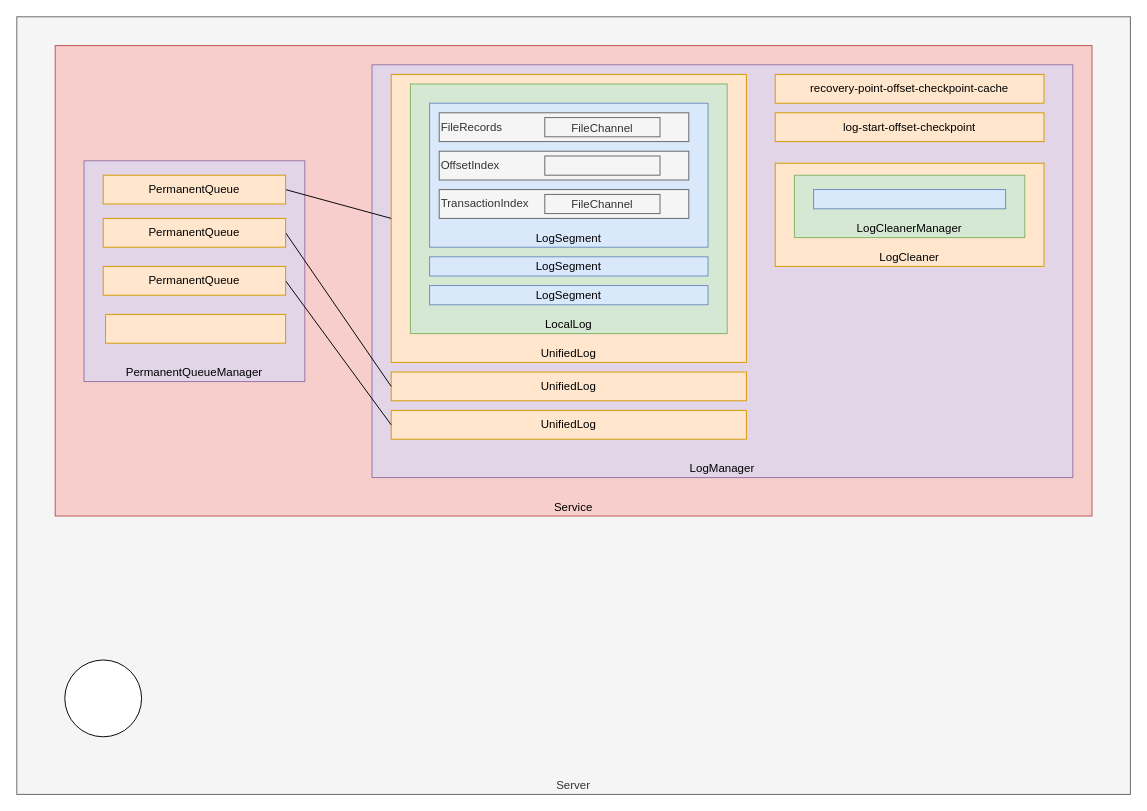
Image size: 1147x811. Some labels were removed from this diagram. The shapes that lost their labels are listed below. From the top down, each one's centre as x and y in pixels, then its label:
At (x=602, y=165): "MappedByteBuffer".
At (x=909, y=199): "cleaner-offset-checkpoint-cache".
At (x=195, y=328): "committed-read-offset-cache".
At (x=103, y=698): "Disk".
